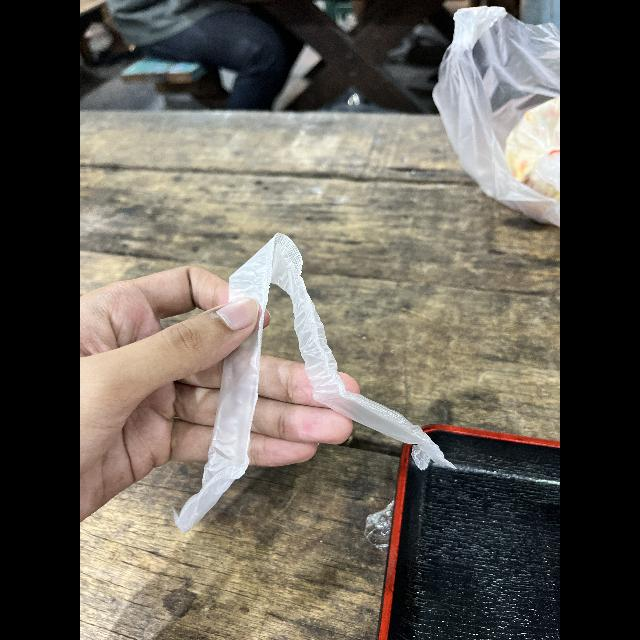plastic_bag: (430, 0, 560, 236)
scrap_plastic: (172, 231, 456, 543)
